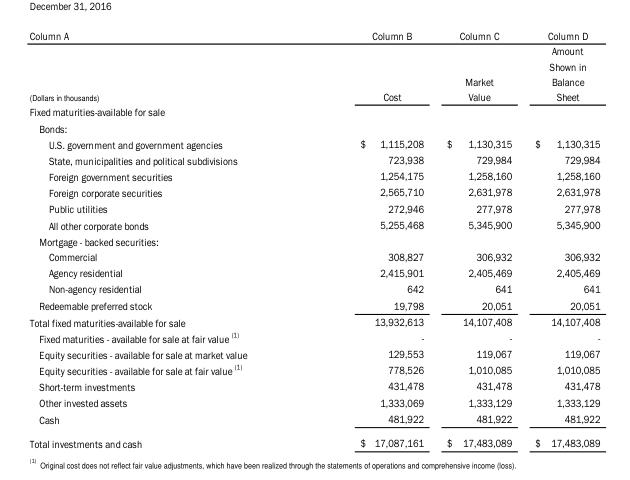table: (28, 29, 599, 449)
table column: (28, 29, 303, 449), (303, 29, 434, 449), (434, 29, 522, 449), (522, 29, 599, 449)
table column header: (28, 29, 599, 104)
table projected row header: (28, 119, 599, 135), (28, 232, 599, 248), (28, 104, 599, 119)
table row: (28, 29, 599, 104), (28, 410, 599, 430), (28, 430, 599, 449), (28, 167, 599, 184), (28, 296, 599, 313), (28, 328, 599, 345), (28, 377, 599, 394), (28, 119, 599, 135), (28, 135, 599, 151), (28, 151, 599, 167), (28, 184, 599, 200), (28, 200, 599, 216), (28, 216, 599, 232), (28, 232, 599, 248), (28, 248, 599, 264), (28, 264, 599, 280), (28, 280, 599, 296), (28, 345, 599, 361), (28, 361, 599, 377), (28, 394, 599, 410), (28, 104, 599, 119), (28, 313, 599, 328)
